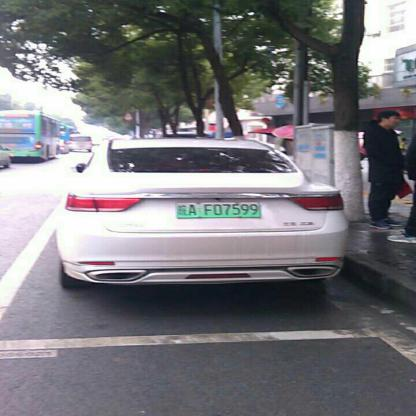lp: (176, 201, 260, 217)
